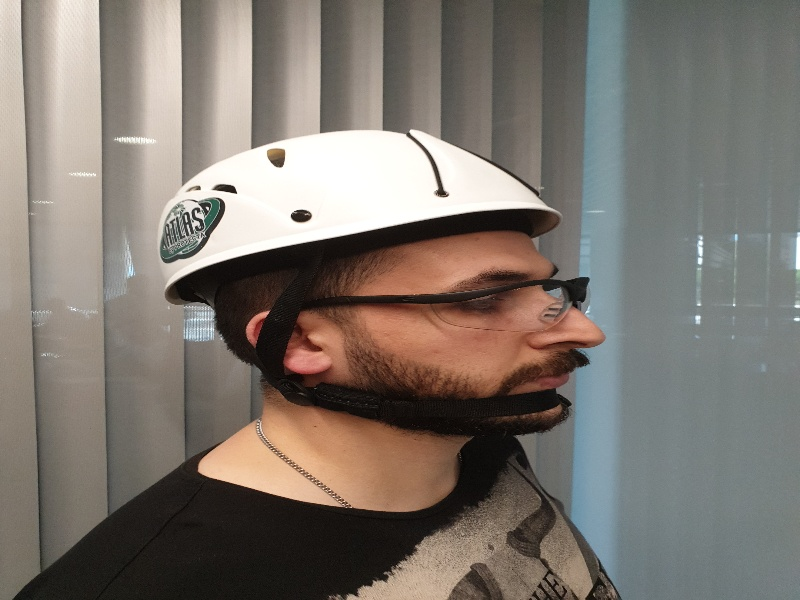Baret: (157, 128, 566, 264)
Gozluk: (310, 276, 595, 331)
